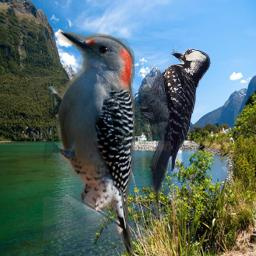Woodpecker: (43, 26, 135, 255), (136, 41, 211, 205)
